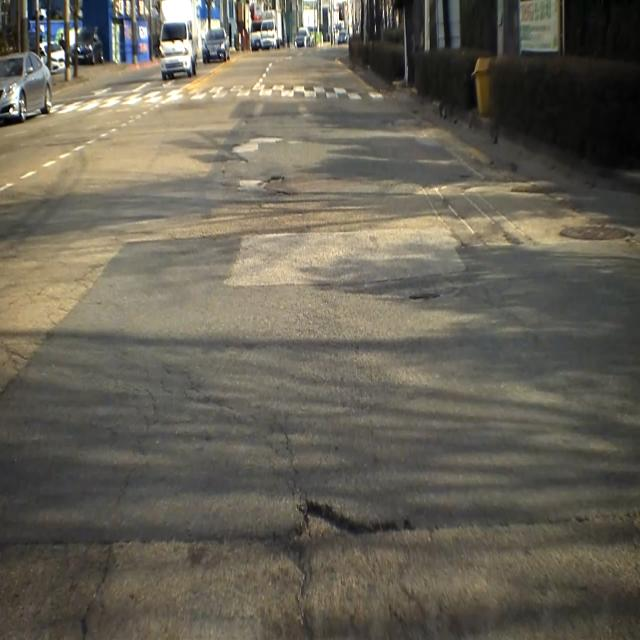Pothole: (274, 490, 416, 559), (256, 170, 294, 202)
